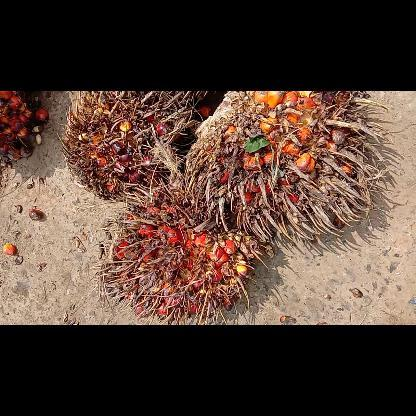Terlalu masak: (180, 90, 404, 250), (100, 180, 266, 324), (56, 91, 200, 207)
